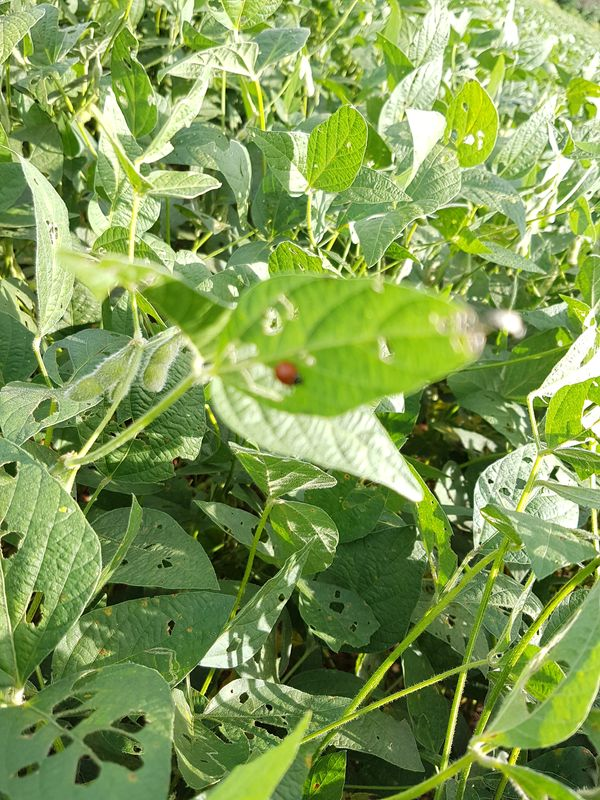Coccinellidae: (265, 355, 310, 395)
